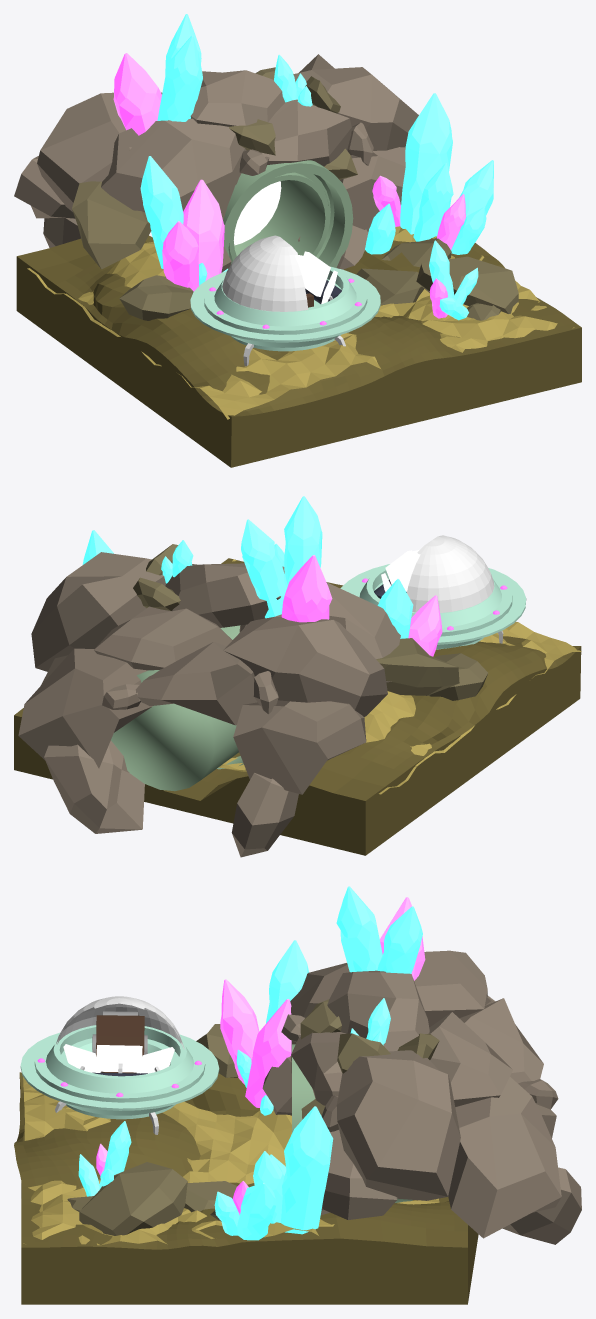
The model's file is undegraundSceneARexpirience.glb.
3 renders of one model, top to bottom at view 1: azimuth 30°, elevation 25°; view 2: azimuth 150°, elevation 25°; view 3: azimuth 270°, elevation 25°, orthographic. The views are drawn at different scales.
Visible parts, largest first — view 1: Cube, Roundcube.010, Plane.001, Roundcube.012, Circle.001, Circle, Sphere, Roundcube.003, Cylinder.007, Cylinder, Roundcube.002, Cylinder.019 (+21 smaller); view 2: Roundcube.012, Cube, Roundcube.010, Cylinder, Sphere, Circle.001, Plane.001, Roundcube.003, Cylinder.020, Cylinder.019, Cylinder.021, Roundcube.001 (+6 smaller); view 3: Cube, Roundcube.010, Roundcube.012, Plane.001, Circle.001, Roundcube.002, Cylinder.007, Cylinder.021, Cylinder.001, Cylinder.003, Sphere, Cylinder.020 (+18 smaller).
Boxes of the visible parts, x1,y1,x2,y2 form: Cube: [16, 235, 581, 467]; Roundcube.010: [101, 54, 418, 272]; Plane.001: [27, 226, 574, 419]; Roundcube.012: [14, 92, 162, 247]; Circle.001: [190, 266, 380, 351]; Circle: [223, 160, 353, 267]; Sphere: [222, 235, 308, 311]; Roundcube.003: [72, 181, 151, 269]; Cylinder.007: [400, 93, 452, 234]; Cylinder: [234, 180, 328, 255]; Roundcube.002: [416, 256, 518, 313]; Cylinder.019: [113, 53, 161, 135]; Roundcube.012: [18, 606, 387, 857]; Cube: [14, 558, 581, 855]; Roundcube.010: [31, 552, 400, 682]; Cylinder: [111, 670, 238, 791]; Sphere: [407, 535, 494, 612]; Circle.001: [340, 564, 526, 649]; Plane.001: [218, 559, 581, 794]; Roundcube.003: [376, 638, 459, 695]; Cylinder.020: [241, 519, 287, 618]; Cylinder.019: [281, 555, 332, 622]; Cylinder.021: [284, 496, 322, 584]; Roundcube.001: [428, 653, 487, 700]; Cube: [14, 1072, 478, 1304]; Roundcube.010: [262, 963, 460, 1219]; Roundcube.012: [414, 950, 581, 1244]; Plane.001: [23, 1077, 439, 1245]; Circle.001: [20, 1025, 219, 1119]; Roundcube.002: [79, 1162, 187, 1235]; Cylinder.007: [281, 1106, 333, 1234]; Cylinder.021: [336, 886, 382, 972]; Cylinder.001: [245, 999, 291, 1107]; Cylinder.003: [220, 979, 259, 1084]; Sphere: [56, 996, 184, 1049]; Cylinder.020: [377, 906, 422, 973].
Size of the model in its own units: 4.34 by 3.14 by 5.27.
